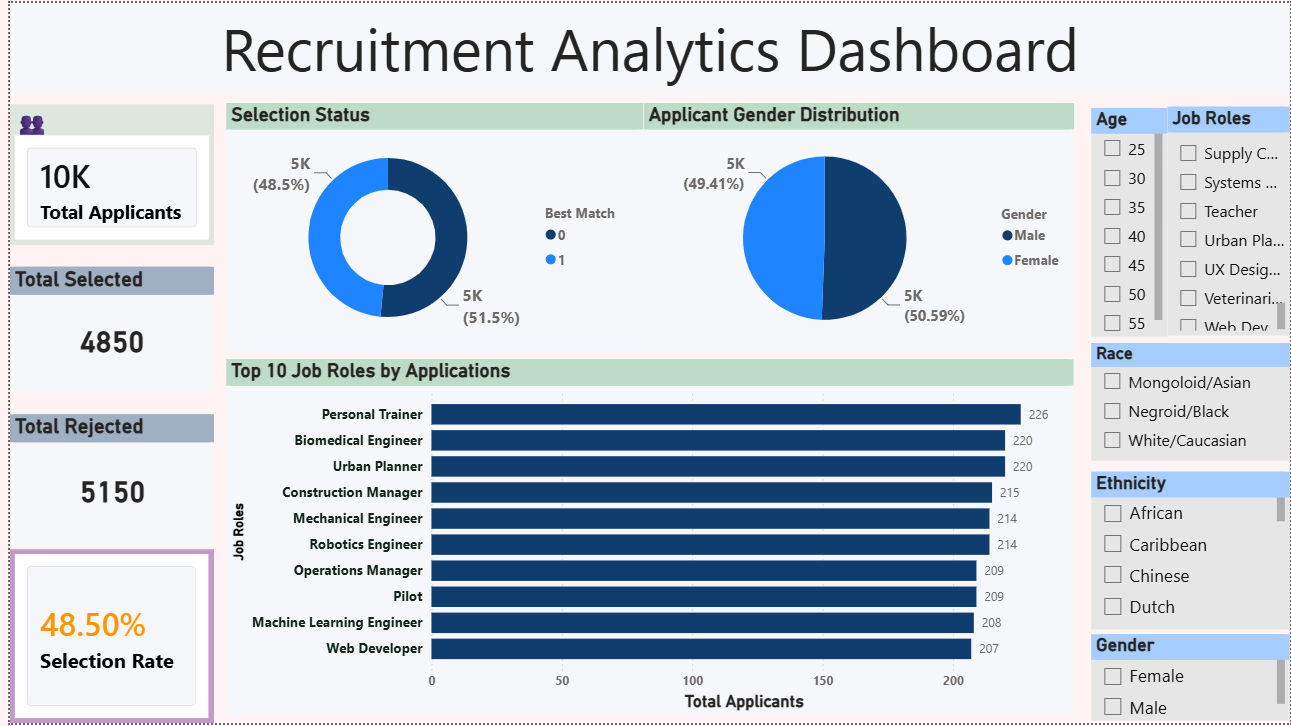

The page's visual inventory and layout, read from the dashboard file:
{"tool":"powerbi","page":{"name":"Page 1","canvas":[1280,720],"ordinal":0},"visuals":[{"type":"cardVisual","title":"Total Applicants","fields":{"Data":["job_applicant_dataset.Total Applicants"]},"box":[0,6.8,204.4,165.1],"z":0},{"type":"kpi","title":"Total Selected ","fields":{"TrendLine":["job_applicant_dataset.Best Match"],"Indicator":["job_applicant_dataset.Total Selected"]},"box":[0,189.5,204.4,147.5],"z":1000},{"type":"kpi","title":"Total Rejected","fields":{"Indicator":["job_applicant_dataset.Total Rejected"],"TrendLine":["job_applicant_dataset.Best Match"]},"box":[0,360,204.4,152.9],"z":2000},{"type":"cardVisual","title":"Selection Rate","fields":{"Data":["job_applicant_dataset.Selection Rate"]},"box":[0,517.2,203.9,202.2],"z":3000},{"type":"donutChart","title":"Selection Status","fields":{"Category":["job_applicant_dataset.Best Match"],"Y":["job_applicant_dataset.Total Applicants"]},"box":[230.4,34.8,409.4,301.7],"z":4000},{"type":"pieChart","title":"Applicant Gender Distribution","fields":{"Y":["job_applicant_dataset.Total Applicants"],"Category":["job_applicant_dataset.Gender"]},"box":[639.8,34.8,424.4,283.5],"z":5000},{"type":"slicer","title":"Age","fields":{"Values":["job_applicant_dataset.Age (bins)"]},"box":[1080.8,0,198.9,177.4],"z":6000},{"type":"slicer","title":"Job Roles","fields":{"Values":["job_applicant_dataset.Job Roles"]},"box":[1080,180,200.3,203],"z":7000},{"type":"slicer","title":"Ethnicity","fields":{"Values":["job_applicant_dataset.Ethnicity"]},"box":[1080.8,532.1,198.9,187.3],"z":8000},{"type":"slicer","title":"Race","fields":{"Values":["job_applicant_dataset.Race"]},"box":[1080.8,397.8,198.9,119.3],"z":9000},{"type":"slicer","title":"Gender","fields":{"Values":["job_applicant_dataset.Gender"]},"box":[946,617.1,134,102.9],"z":10000},{"type":"clusteredBarChart","title":"Top 10 Job Roles by Applications","fields":{"Y":["job_applicant_dataset.Total Applicants"],"Category":["job_applicant_dataset.Job Roles"]},"box":[246.3,318,767.4,280.1],"z":11000}]}

Visuals, with their boxes in screenshot pixels (x1, y1, x2, y2), scaled from the page's 1280x720 canvas onto the 1291x726 screenshot:
"Total Applicants" cardVisual: x1=0 y1=7 x2=206 y2=173
"Total Selected " kpi: x1=0 y1=191 x2=206 y2=340
"Total Rejected" kpi: x1=0 y1=363 x2=206 y2=517
"Selection Rate" cardVisual: x1=0 y1=522 x2=206 y2=725
"Selection Status" donutChart: x1=232 y1=35 x2=645 y2=339
"Applicant Gender Distribution" pieChart: x1=645 y1=35 x2=1073 y2=321
"Age" slicer: x1=1090 y1=0 x2=1290 y2=179
"Job Roles" slicer: x1=1089 y1=182 x2=1290 y2=386
"Ethnicity" slicer: x1=1090 y1=537 x2=1290 y2=725
"Race" slicer: x1=1090 y1=401 x2=1290 y2=521
"Gender" slicer: x1=954 y1=622 x2=1089 y2=725
"Top 10 Job Roles by Applications" clusteredBarChart: x1=248 y1=321 x2=1022 y2=603
